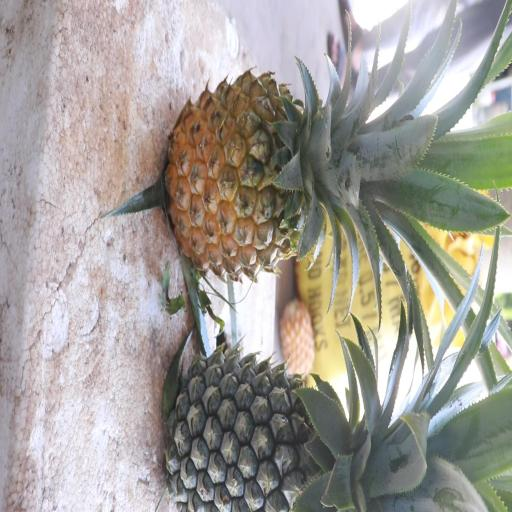Pineapple - v8 v1: (166, 54, 440, 280)
